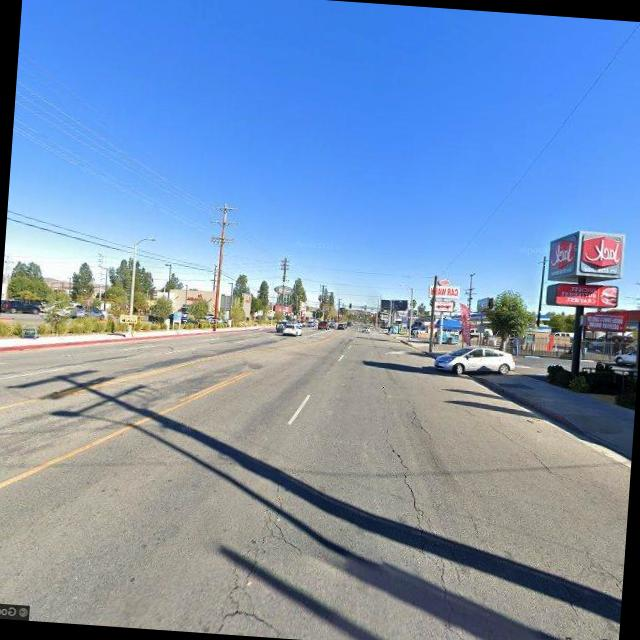crack: (196, 488, 316, 638)
pothole: (366, 413, 493, 640), (484, 419, 568, 478), (577, 546, 625, 633), (406, 400, 440, 442)
